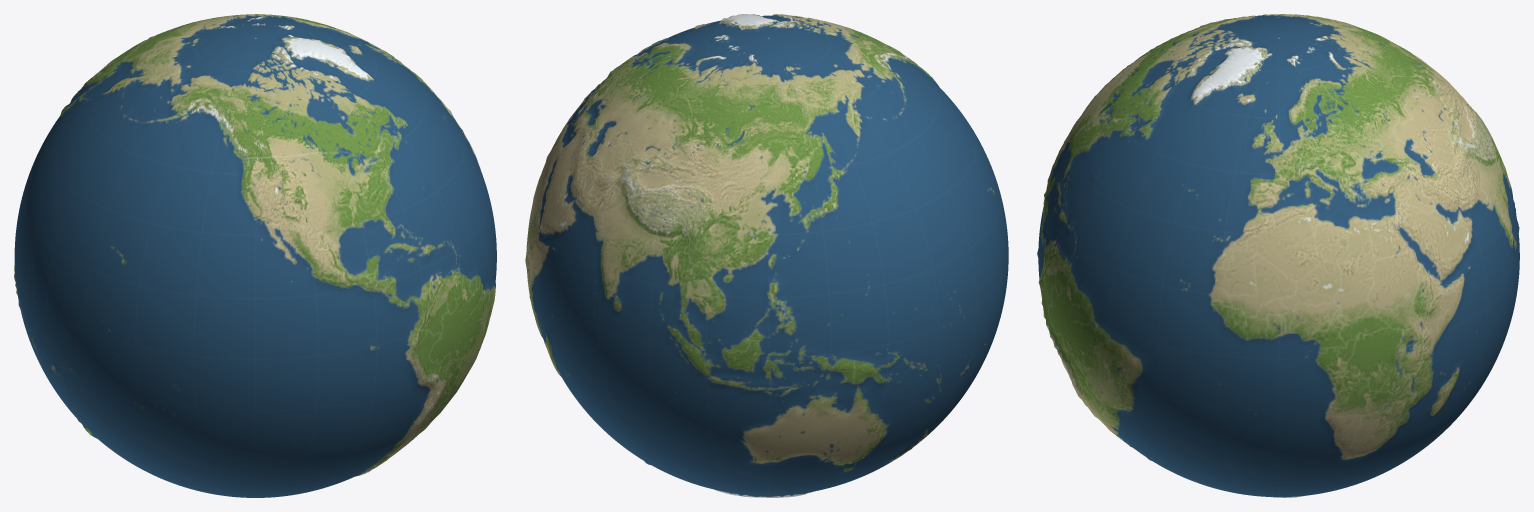
Rendered from SM_Earth_LOD0.fbx.
The picture shows the model from 3 angles, left to right: view 1: azimuth 30°, elevation 25°; view 2: azimuth 150°, elevation 25°; view 3: azimuth 270°, elevation 25°; orthographic projection.
Parts seen in each view (by area): view 1: SM_Earth_LOD0; view 2: SM_Earth_LOD0; view 3: SM_Earth_LOD0.
Part boxes in pixels (x1,y1,x2,y2): SM_Earth_LOD0: [14, 14, 496, 497]; SM_Earth_LOD0: [525, 14, 1008, 497]; SM_Earth_LOD0: [1037, 14, 1519, 497].
Bounding box in the file's own units: 2 × 2.01 × 2.02.
Materials: 1 (1 with a texture image).
